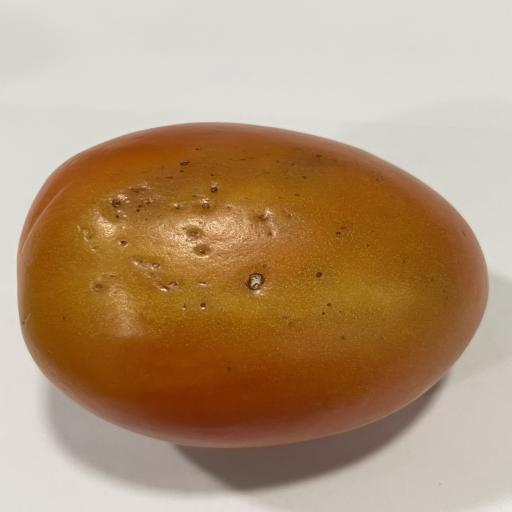unripe: (18, 123, 487, 448)
